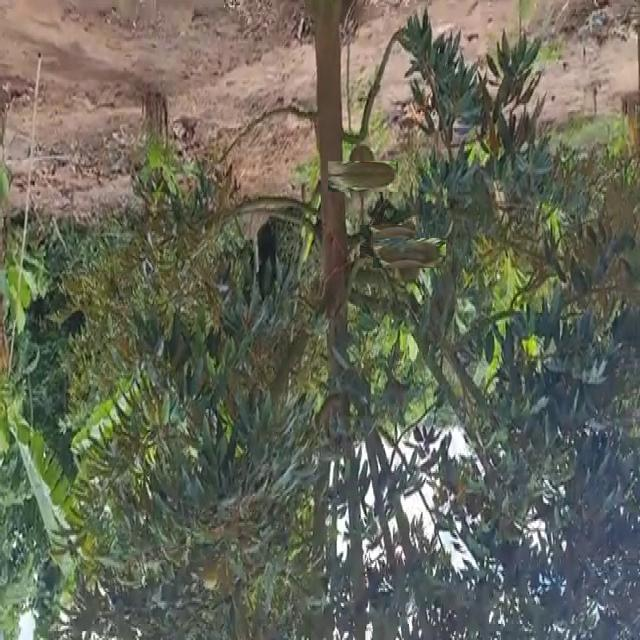durian: (384, 226, 436, 278), (338, 151, 388, 202), (365, 219, 410, 263)
